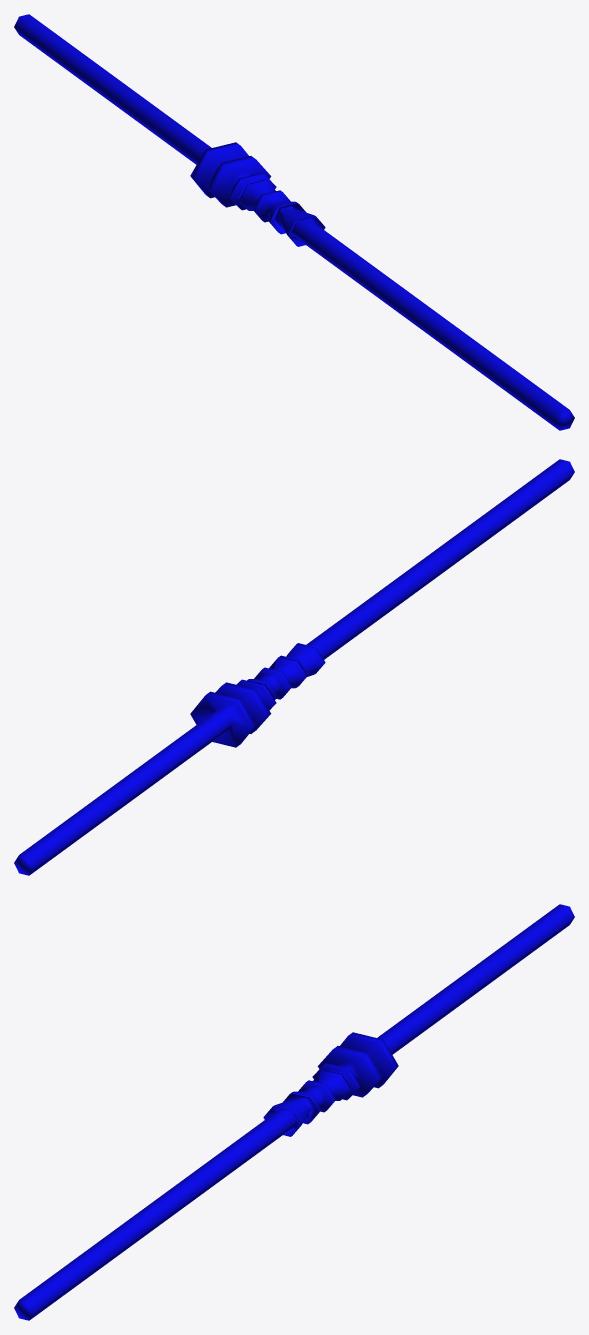
The model's file is mdl_Corredor_Tubo_techo.fbx.
The picture shows the model from 3 angles, top to bottom: view 1: azimuth 30°, elevation 25°; view 2: azimuth 150°, elevation 25°; view 3: azimuth 330°, elevation 25°; orthographic projection.
Visible parts, largest first — view 1: mdl_Corredor_Tubo_techo; view 2: mdl_Corredor_Tubo_techo; view 3: mdl_Corredor_Tubo_techo.
Part boxes in pixels (bbox=[...]): mdl_Corredor_Tubo_techo: bbox=[14, 14, 574, 430]; mdl_Corredor_Tubo_techo: bbox=[14, 459, 574, 875]; mdl_Corredor_Tubo_techo: bbox=[14, 904, 574, 1320].
Bounding box in the file's own units: 12.71 × 8.95 × 195.
